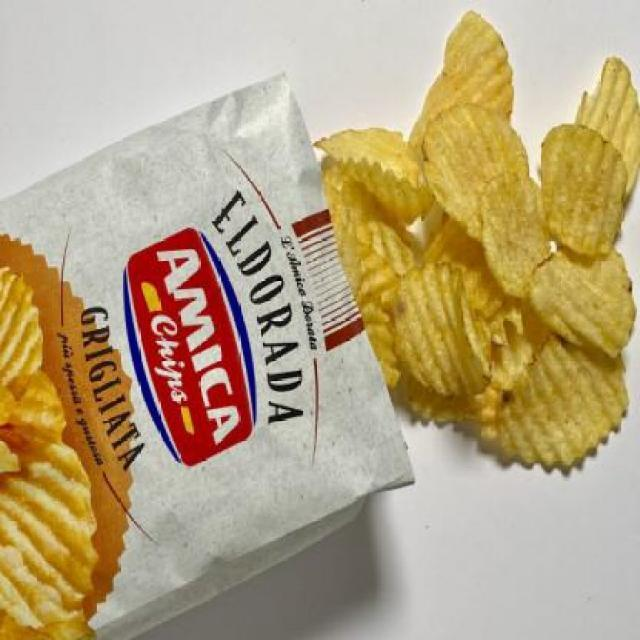Chips: (3, 71, 426, 640)
Chips packaged: (344, 14, 638, 472)
